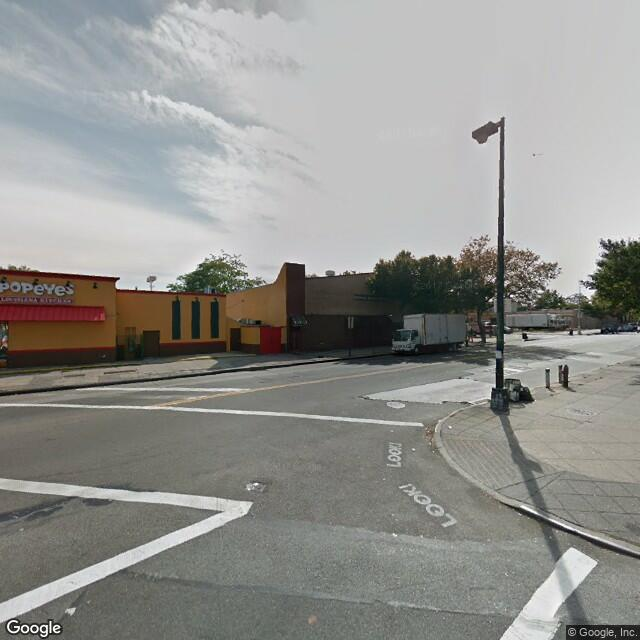litter: (408, 441, 420, 457), (444, 421, 457, 432)
